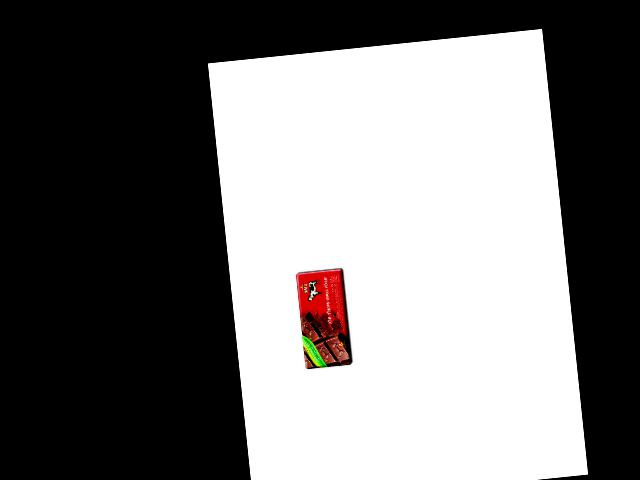chocolate: (293, 264, 357, 369)
